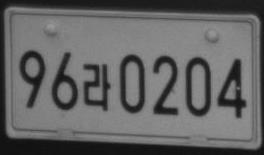0: (118, 53, 146, 114), (184, 56, 212, 117)
2: (151, 54, 179, 115)
4: (216, 58, 247, 118)
6: (50, 51, 78, 111)
9: (18, 49, 45, 108)
라: (82, 62, 111, 112)
